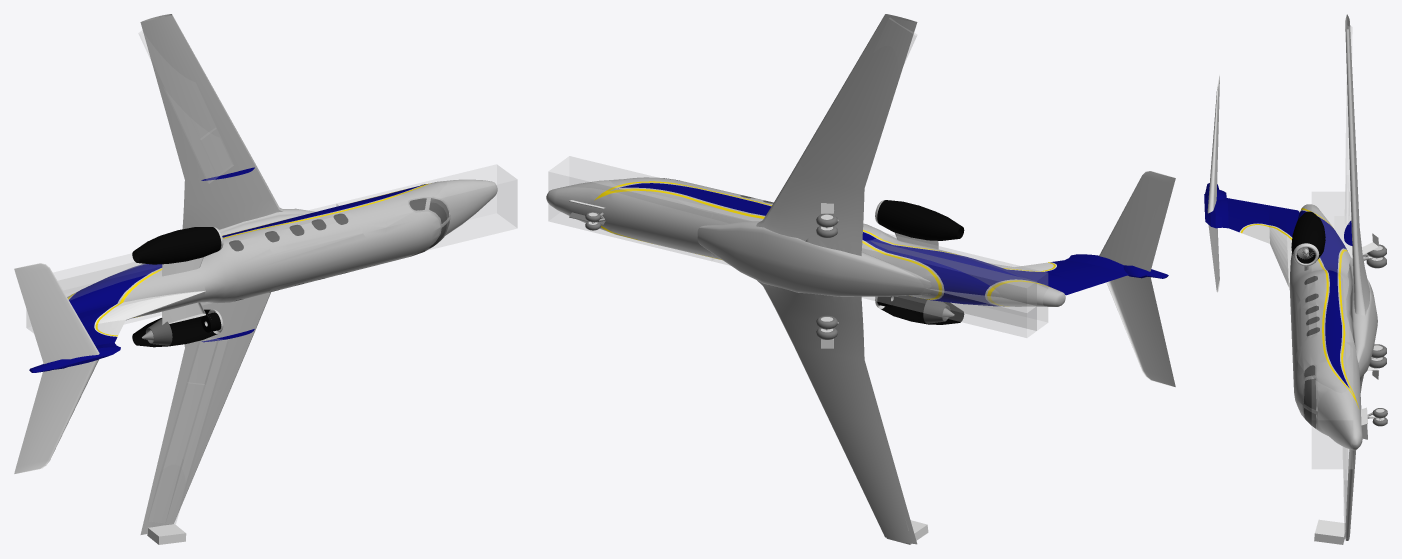
The model's file is Learjet 45.glb.
3 renders of one model, left to right at view 1: azimuth 30°, elevation 25°; view 2: azimuth 150°, elevation 25°; view 3: azimuth 270°, elevation 25°, orthographic. The views are drawn at different scales.
Visible parts, largest first — view 1: Geom3D_Geom3D__Defintion44_Geom3D_, Geom3D.005, fuselage, rightwing, Geom3D_Geom3D__Defintion48_Geom3D_, Geom3D_Geom3D__Defintion53_Geom3D_, leftwing, Geom3D.008, Geom3D.217, Geom3D_Geom3D__Defintion_Geom3D_, Geom3D.307, Geom3D.011 (+3 smaller); view 2: Geom3D_Geom3D__Defintion44_Geom3D_, fuselage, Geom3D.005, Geom3D.008, Geom3D_Geom3D__Defintion48_Geom3D_, Geom3D_Geom3D__Defintion53_Geom3D_, Geom3D.217, Geom3D.002, Geom3D.307, leftwing; view 3: Geom3D.005, fuselage, Geom3D_Geom3D__Defintion44_Geom3D_, Geom3D.008, Geom3D_Geom3D__Defintion_Geom3D_, Geom3D.217, Geom3D.011, Geom3D.002, Geom3D_Geom3D__Defintion48_Geom3D_, winglet, leftwing, Geom3D_Geom3D__Defintion53_Geom3D_ (+3 smaller).
Boxes of the visible parts, x1,y1,x2,y2 form: Geom3D_Geom3D__Defintion44_Geom3D_: (140, 14, 315, 534); Geom3D.005: (67, 179, 497, 317); fuselage: (26, 164, 517, 332); rightwing: (148, 338, 228, 523); Geom3D_Geom3D__Defintion48_Geom3D_: (14, 263, 99, 363); Geom3D_Geom3D__Defintion53_Geom3D_: (14, 359, 98, 473); leftwing: (138, 16, 233, 183); Geom3D.008: (56, 184, 425, 368); Geom3D.217: (132, 227, 221, 264); Geom3D_Geom3D__Defintion_Geom3D_: (94, 290, 205, 336); Geom3D.307: (132, 309, 221, 347); Geom3D.011: (229, 198, 449, 301); Geom3D_Geom3D__Defintion44_Geom3D_: (697, 14, 931, 544); fuselage: (548, 156, 1047, 337); Geom3D.005: (546, 177, 1065, 306); Geom3D.008: (618, 183, 1128, 306); Geom3D_Geom3D__Defintion48_Geom3D_: (1099, 171, 1175, 271); Geom3D_Geom3D__Defintion53_Geom3D_: (1106, 275, 1175, 387); Geom3D.217: (877, 200, 964, 240); Geom3D.002: (594, 181, 1055, 305); Geom3D.307: (877, 296, 964, 324); leftwing: (875, 18, 916, 71); Geom3D.005: (1289, 204, 1362, 450); fuselage: (1312, 192, 1353, 468); Geom3D_Geom3D__Defintion44_Geom3D_: (1345, 14, 1377, 540); Geom3D.008: (1204, 194, 1349, 387); Geom3D_Geom3D__Defintion_Geom3D_: (1239, 210, 1300, 287); Geom3D.217: (1291, 211, 1325, 263); Geom3D.011: (1304, 276, 1319, 428); Geom3D.002: (1240, 208, 1359, 408); Geom3D_Geom3D__Defintion48_Geom3D_: (1207, 75, 1219, 213); winglet: (1314, 519, 1345, 544); leftwing: (1345, 26, 1352, 224); Geom3D_Geom3D__Defintion53_Geom3D_: (1208, 225, 1219, 292).
Bounding box in the file's own units: 17.55 × 15.75 × 5.09.
